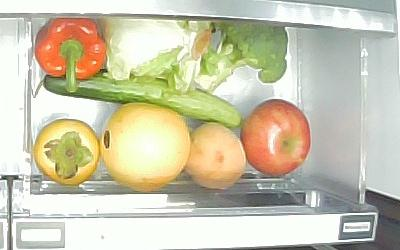apple: (241, 100, 313, 178)
broccoli: (194, 22, 288, 91)
cucumber: (42, 68, 243, 129)
grapefruit: (100, 103, 189, 193)
lettuce: (98, 17, 211, 95)
paprika: (35, 18, 107, 93)
peach: (187, 123, 246, 191)
persimmon: (33, 119, 100, 187)
